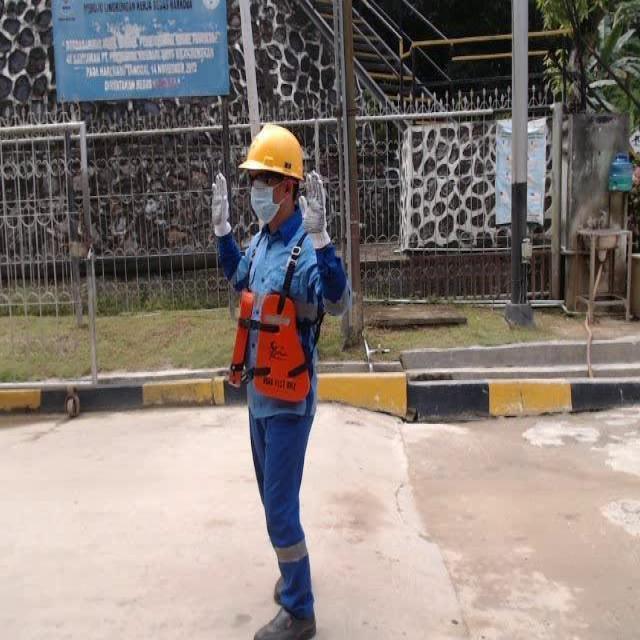Vest: (227, 286, 315, 402)
